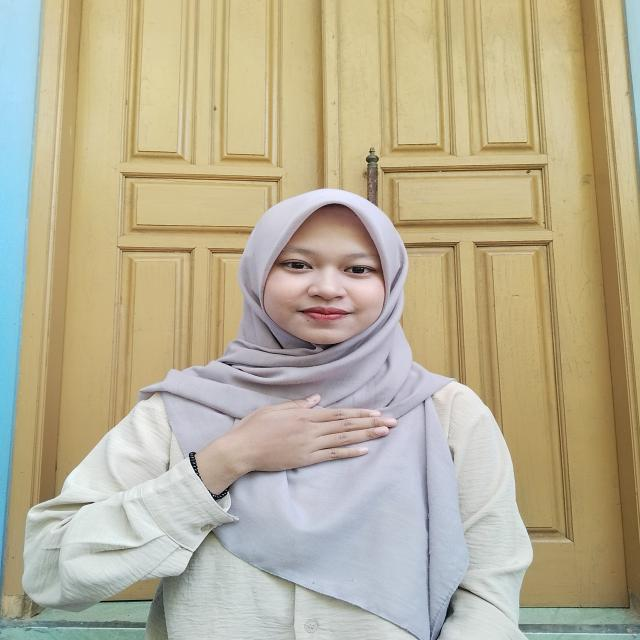tolong: (181, 389, 404, 495)
